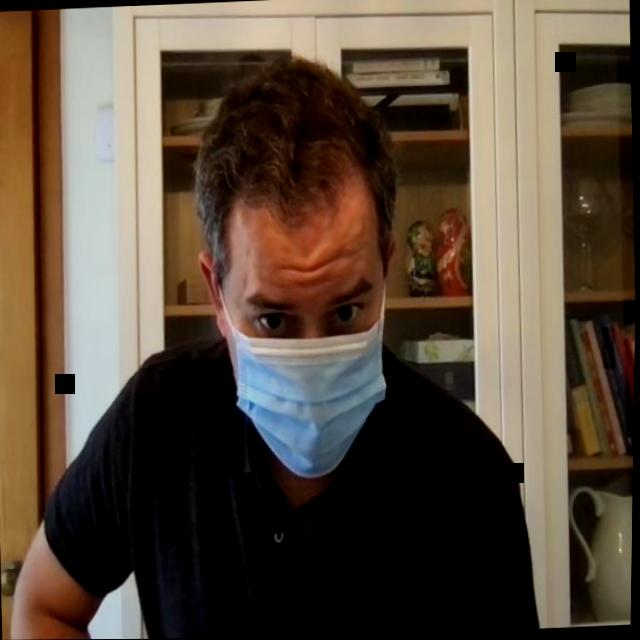Mask: (184, 52, 407, 485)
